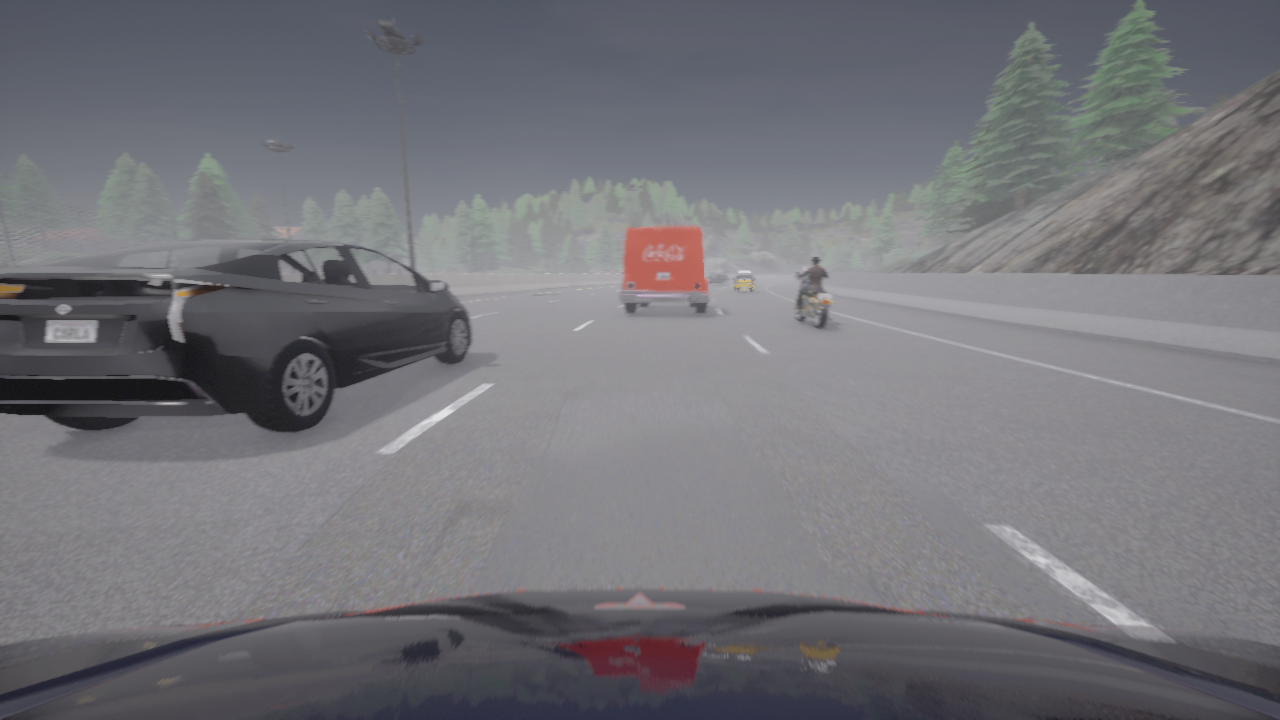cyclist: (0, 588, 1279, 719), (0, 238, 472, 432), (620, 227, 709, 313), (794, 271, 832, 329), (733, 271, 755, 292), (707, 271, 727, 285)
